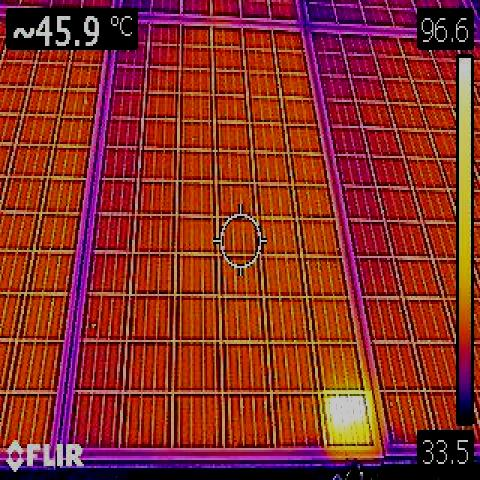fault: (323, 391, 372, 444)
